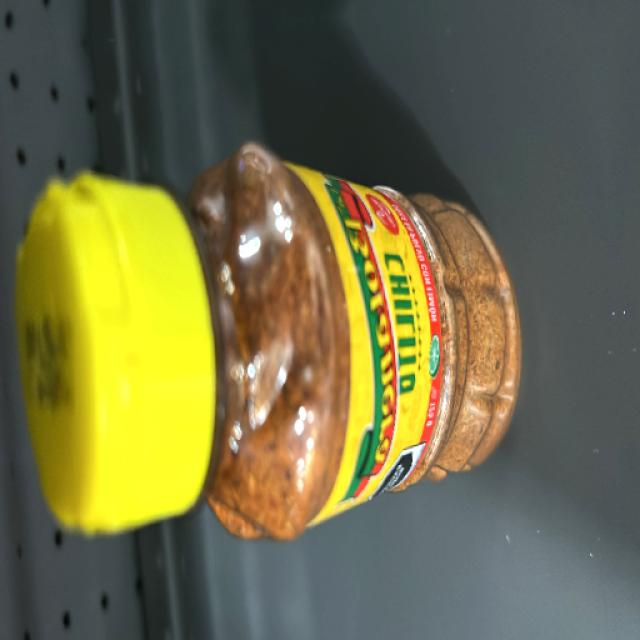botaneraChilito: (8, 163, 512, 536)
